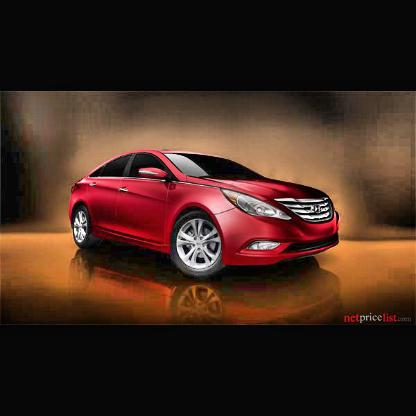Hyundai Sonata Sedan 2012: (71, 149, 342, 279)
